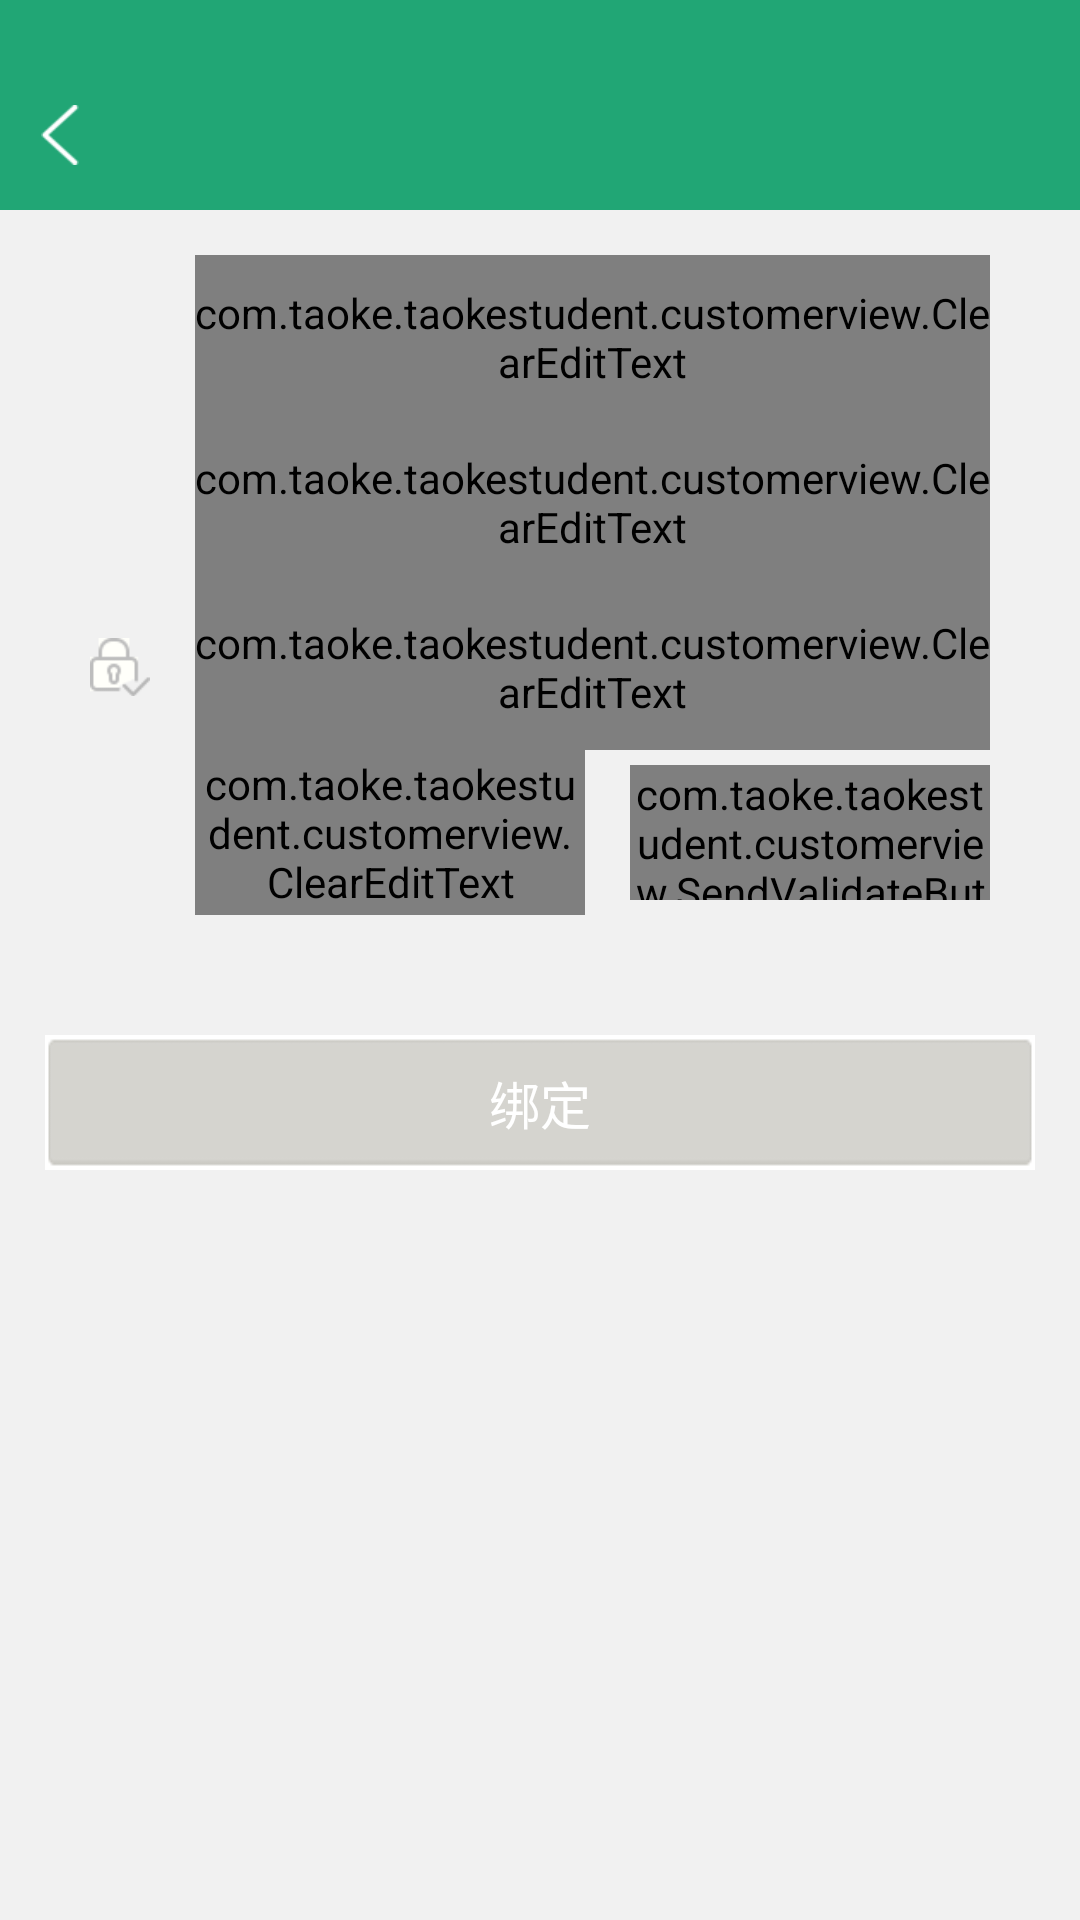

Where icons sit on this 1080 × 1920 app screen, as (x1, y1, x2, y2):
arrow left: (41, 105, 79, 165)
registe password confirm: (90, 638, 150, 696)
